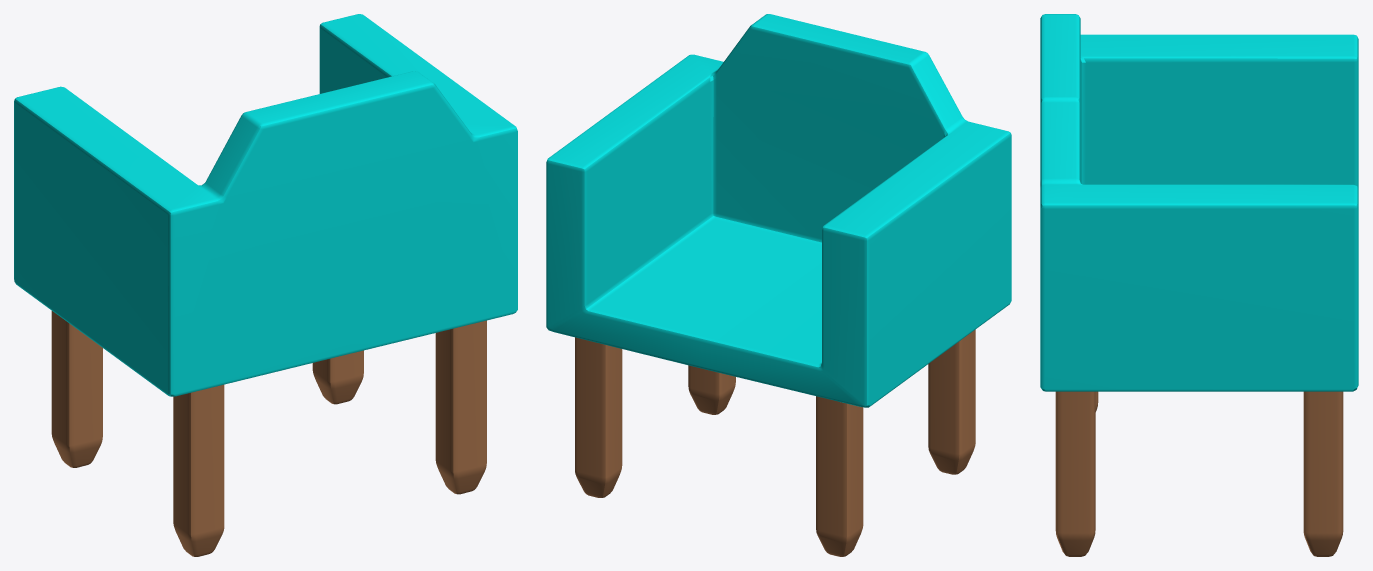
Rendered from SM_Chaise_bar.fbx.
3 views of the same model, side by side, from view 1: azimuth 30°, elevation 25°; view 2: azimuth 150°, elevation 25°; view 3: azimuth 270°, elevation 25° (orthographic). The views are drawn at different scales.
Visible parts, largest first — view 1: pCube6; view 2: pCube6; view 3: pCube6.
Boxes of the visible parts, x1,y1,x2,y2 form: pCube6: (14,14,517,556); pCube6: (546,14,1011,556); pCube6: (1040,14,1358,556).
Bounding box in the file's own units: 78.34 × 92.19 × 61.33.
